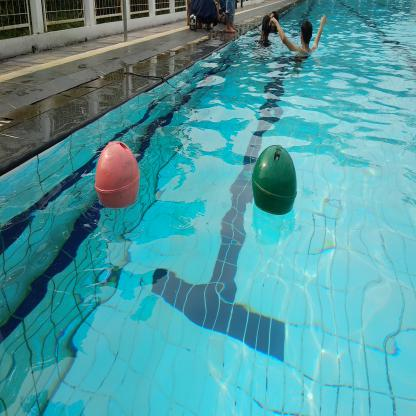green_buoy: (248, 137, 303, 222)
red_buoy: (90, 135, 146, 214)
